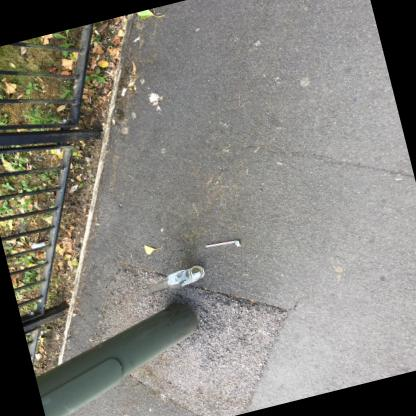Plastic: (142, 265, 204, 294), (205, 239, 241, 246)
Waste: (31, 241, 45, 248)
